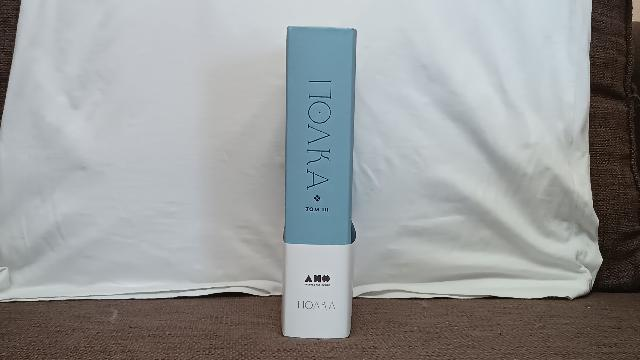book-s-spine: (285, 26, 357, 339)
